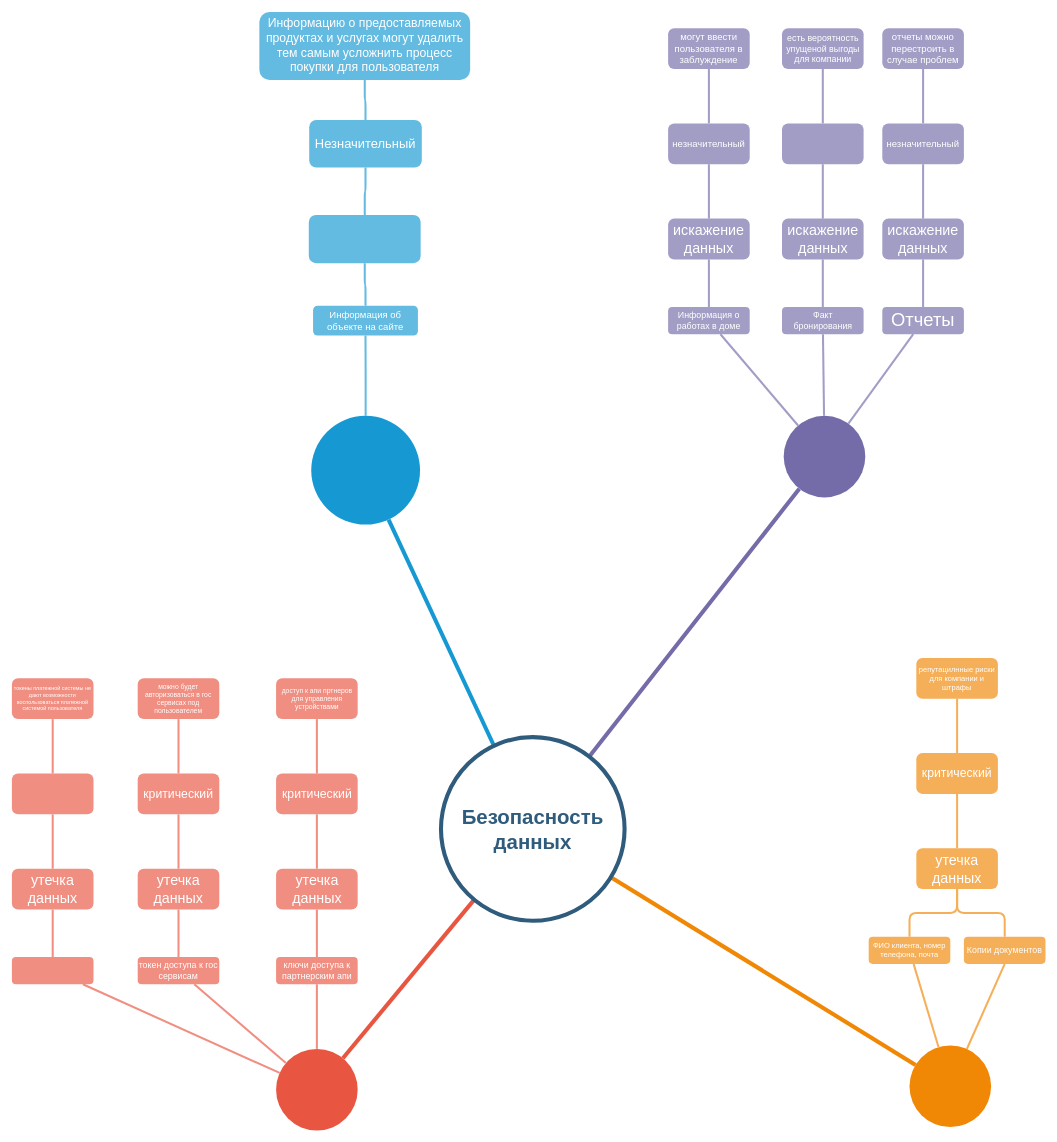
Some shapes in this 1057 by 1142 pixel diagram are drawn without their labels. Here are the shapes that lost their labels. From the top down, the box of each, then its label:
(782, 123, 863, 164): значительный
(308, 215, 420, 263): потеря данных
(311, 415, 420, 524): публичные данные
(783, 415, 865, 497): внутренние данные
(12, 773, 93, 814): незначительныый
(12, 957, 93, 984): токен доступа к платежным системам
(276, 1049, 357, 1130): секретные данные
(909, 1045, 991, 1127): конфиденциальные данные
